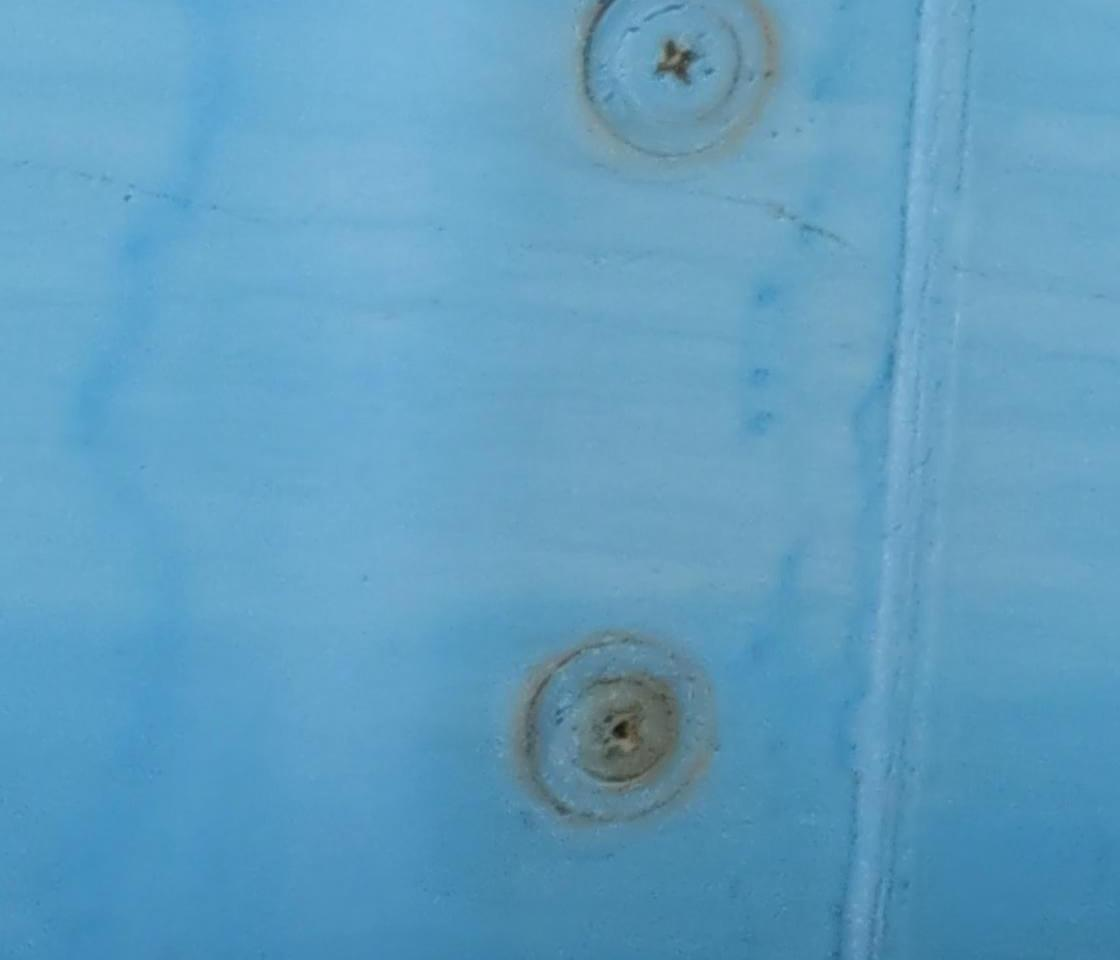rivet_damage: (514, 623, 723, 831)
